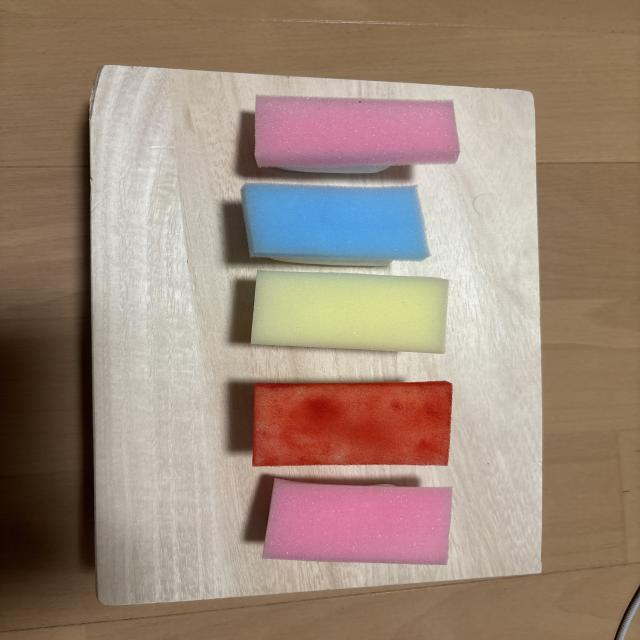ika: (241, 183, 430, 265)
salmon: (252, 381, 452, 466)
tai: (263, 479, 452, 564), (255, 95, 459, 173)
tamago: (251, 271, 448, 353)
